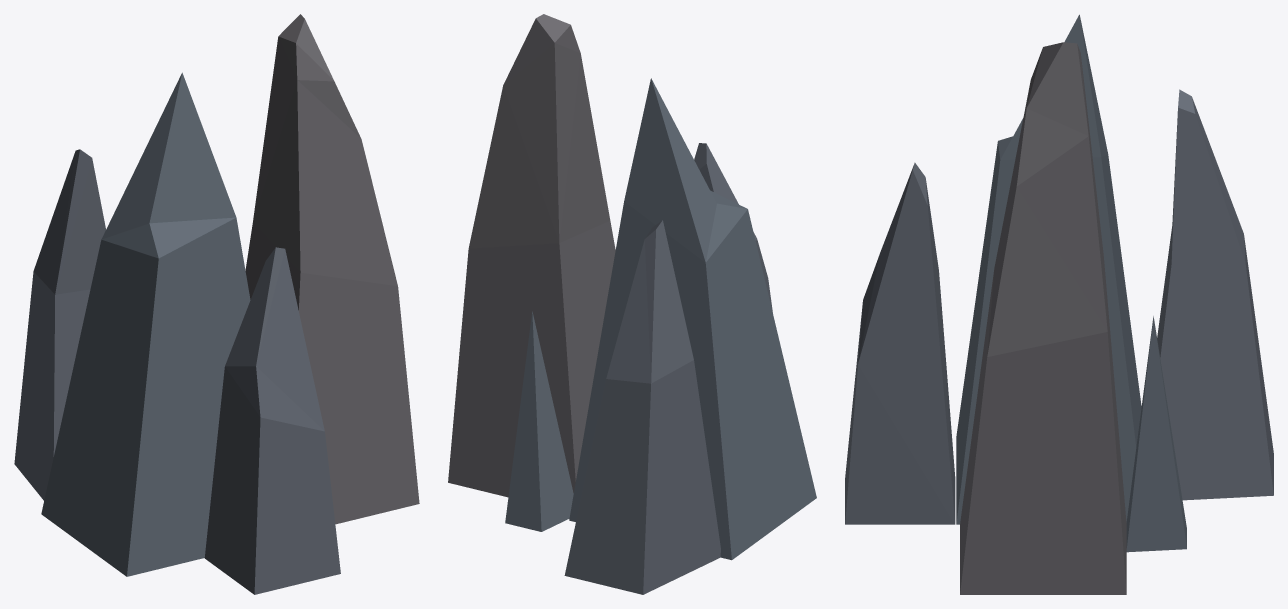
File: Rocks_Sharp_s_02 2.fbx
3 views of the same model, side by side, from view 1: azimuth 30°, elevation 25°; view 2: azimuth 150°, elevation 25°; view 3: azimuth 270°, elevation 25° (orthographic). The views are drawn at different scales.
Parts seen in each view (by area): view 1: Rocks_Sharp_s_02; view 2: Rocks_Sharp_s_02; view 3: Rocks_Sharp_s_02.
Part boxes in pixels (bbox=[...]): Rocks_Sharp_s_02: bbox=[14, 14, 419, 594]; Rocks_Sharp_s_02: bbox=[448, 14, 816, 594]; Rocks_Sharp_s_02: bbox=[845, 14, 1273, 594].
Size of the model in its own units: 46.74 by 70.93 by 53.39.
